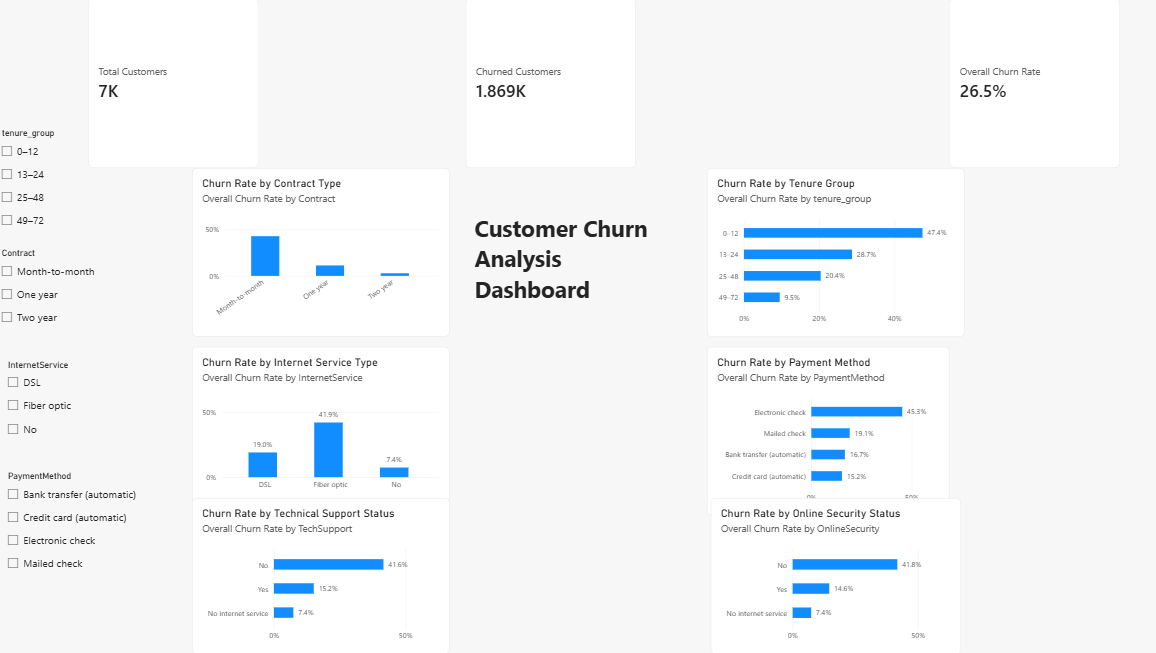

The dashboard page shown, as its layout file describes it:
{"tool":"powerbi","page":{"name":"Page 1","canvas":[1920,1080],"ordinal":0},"visuals":[{"type":"cardVisual","fields":{"Data":["customer_churn_cleaned.Total Customers"]},"box":[150.3,0,280,280],"z":0},{"type":"cardVisual","fields":{"Data":["customer_churn_cleaned.Churned Customers"]},"box":[771.9,0,280,280],"z":1},{"type":"cardVisual","fields":{"Data":["customer_churn_cleaned.Overall Churn Rate"]},"box":[1568.4,0,280,280],"z":2},{"type":"clusteredColumnChart","title":"Churn Rate by Contract Type","fields":{"Category":["customer_churn_cleaned.Contract"],"Y":["customer_churn_cleaned.Overall Churn Rate"]},"box":[321.1,279.9,424,277.9],"z":3},{"type":"slicer","fields":{"Values":["customer_churn_cleaned.tenure_group"]},"box":[0,214.1,228.5,277.9],"z":4},{"type":"clusteredBarChart","title":"Churn Rate by Tenure Group","fields":{"Category":["customer_churn_cleaned.tenure_group"],"Y":["customer_churn_cleaned.Overall Churn Rate"]},"box":[1169.1,279.9,424,278],"z":5},{"type":"clusteredBarChart","title":"Churn Rate by Payment Method","fields":{"Category":["customer_churn_cleaned.PaymentMethod"],"Y":["customer_churn_cleaned.Overall Churn Rate"]},"box":[1169.1,574.3,399.3,277.9],"z":6},{"type":"clusteredColumnChart","title":"Churn Rate by Internet Service Type","fields":{"Category":["customer_churn_cleaned.InternetService"],"Y":["customer_churn_cleaned.Overall Churn Rate"]},"box":[321.1,574.3,424,257],"z":7},{"type":"clusteredBarChart","title":"Churn Rate by Technical Support Status","fields":{"Category":["customer_churn_cleaned.TechSupport"],"Y":["customer_churn_cleaned.Overall Churn Rate"]},"box":[321.1,823.3,424,257],"z":8},{"type":"clusteredBarChart","title":"Churn Rate by Online Security Status","fields":{"Category":["customer_churn_cleaned.OnlineSecurity"],"Y":["customer_churn_cleaned.Overall Churn Rate"]},"box":[1175.3,823.3,411.7,257.3],"z":9},{"type":"slicer","fields":{"Values":["customer_churn_cleaned.Contract"]},"box":[0,411.7,228,257],"z":10},{"type":"slicer","fields":{"Values":["customer_churn_cleaned.InternetService"]},"box":[10.3,594.9,228,257],"z":11},{"type":"slicer","fields":{"Values":["customer_churn_cleaned.PaymentMethod"]},"box":[10.3,778,280,278],"z":12},{"type":"textbox","box":[786.3,354,333.4,185.2],"z":13},{"type":"textbox","box":[786,574,333,257],"z":14}]}

Visuals, with their boxes in screenshot pixels (x1, y1, x2, y2), scaled from the page's 1920x1080 canvas onto the 1156x653 screenshot:
cardVisual - customer_churn_cleaned.Total Customers: [90, 0, 259, 169]
cardVisual - customer_churn_cleaned.Churned Customers: [465, 0, 633, 169]
cardVisual - customer_churn_cleaned.Overall Churn Rate: [944, 0, 1113, 169]
"Churn Rate by Contract Type" clusteredColumnChart: [193, 169, 449, 337]
slicer - customer_churn_cleaned.tenure_group: [0, 129, 138, 297]
"Churn Rate by Tenure Group" clusteredBarChart: [704, 169, 959, 337]
"Churn Rate by Payment Method" clusteredBarChart: [704, 347, 944, 515]
"Churn Rate by Internet Service Type" clusteredColumnChart: [193, 347, 449, 503]
"Churn Rate by Technical Support Status" clusteredBarChart: [193, 498, 449, 652]
"Churn Rate by Online Security Status" clusteredBarChart: [708, 498, 956, 652]
slicer - customer_churn_cleaned.Contract: [0, 249, 137, 404]
slicer - customer_churn_cleaned.InternetService: [6, 360, 143, 515]
slicer - customer_churn_cleaned.PaymentMethod: [6, 470, 175, 638]
textbox: [473, 214, 674, 326]
textbox: [473, 347, 674, 502]
